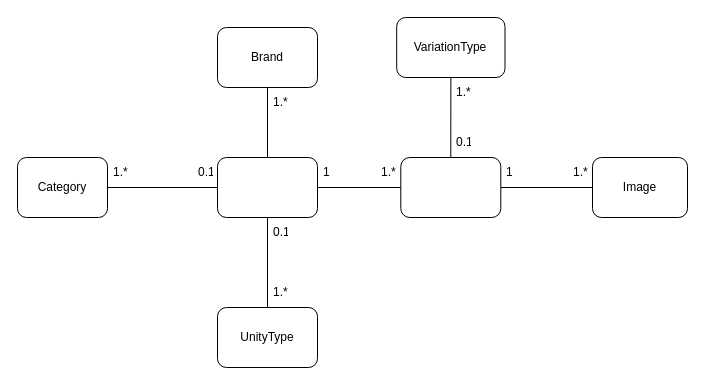
This 705x385 diagram has some shape labels left out. Each missing label, with the centre of its shape:
"Product" goes at point 267,187.
"Variation" goes at point 450,187.
